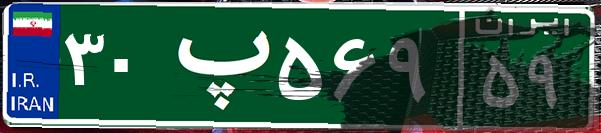0: (110, 28, 158, 105)
3: (57, 26, 110, 107)
5: (273, 28, 330, 110), (475, 38, 525, 113)
6: (330, 28, 385, 110)
9: (385, 28, 445, 110), (525, 38, 570, 115)
پ: (158, 15, 273, 115)
